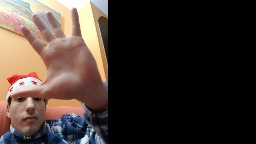Mano_aperta: (7, 6, 98, 101)
